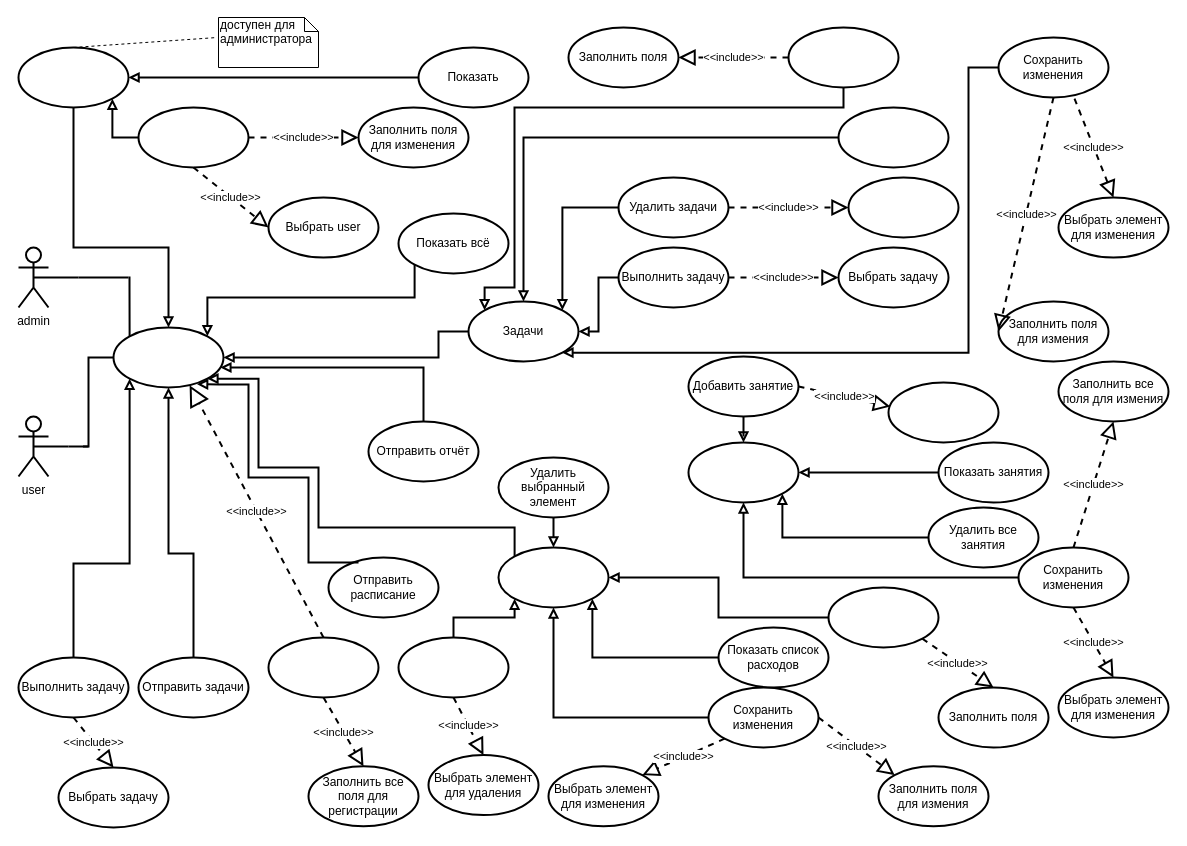
This 1187x846 diagram has some shape labels left out. Here are the shapes that lost their labels. From the top down, the centre of each, then its label:
At point (73, 77): "Админ панель".
At point (843, 57): "Добавить задачу".
At point (193, 137): "Изменить".
At point (893, 137): "Показать задачи".
At point (903, 207): "выбрать вариант удаления".
At point (168, 357): "Авторизация".
At point (943, 412): "Заполнить все поля".
At point (743, 472): "Расписание".
At point (553, 577): "Расходы".
At point (883, 617): "Добавить".
At point (323, 667): "Регистрация".
At point (453, 667): "Удалить".
